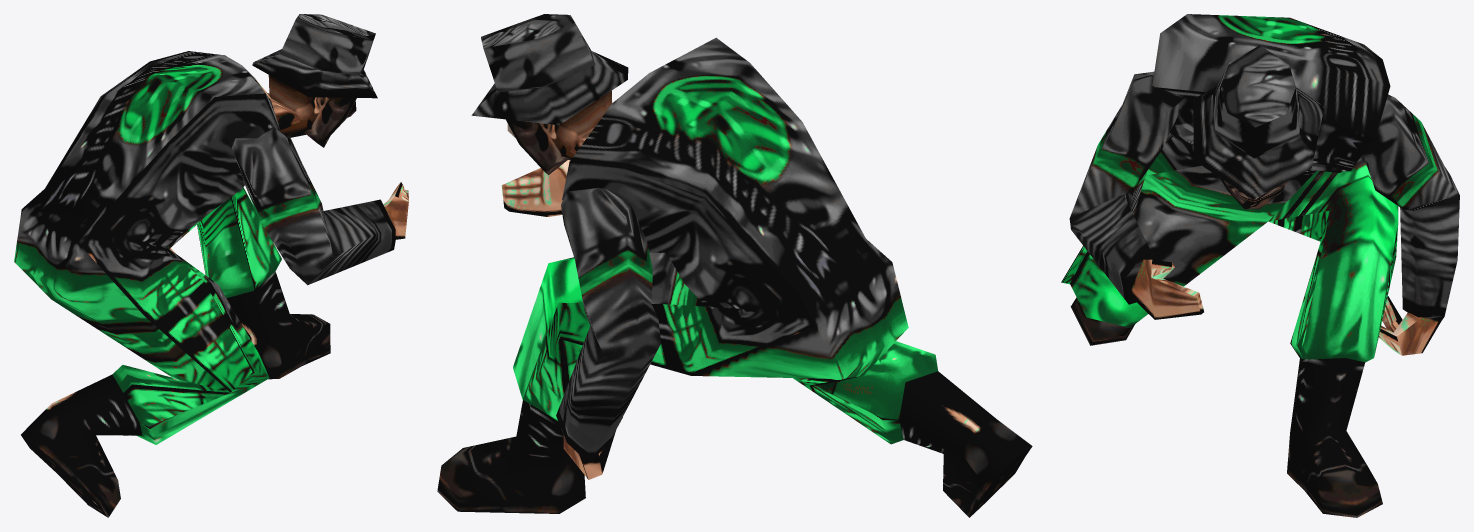
Rendered from sniper2_green_crouch.glb.
3 renders of one model, left to right at view 1: azimuth 30°, elevation 25°; view 2: azimuth 150°, elevation 25°; view 3: azimuth 270°, elevation 25°, orthographic. The views are drawn at different scales.
Visible parts, largest first — view 1: sniper2; view 2: sniper2; view 3: sniper2.
Boxes of the visible parts, <box> form: sniper2: <box>14,14,408,517</box>; sniper2: <box>437,14,1032,517</box>; sniper2: <box>1061,14,1459,517</box>.
Bounding box in the file's own units: 48.35 × 43.95 × 35.38.
1 material, 1 textured.
